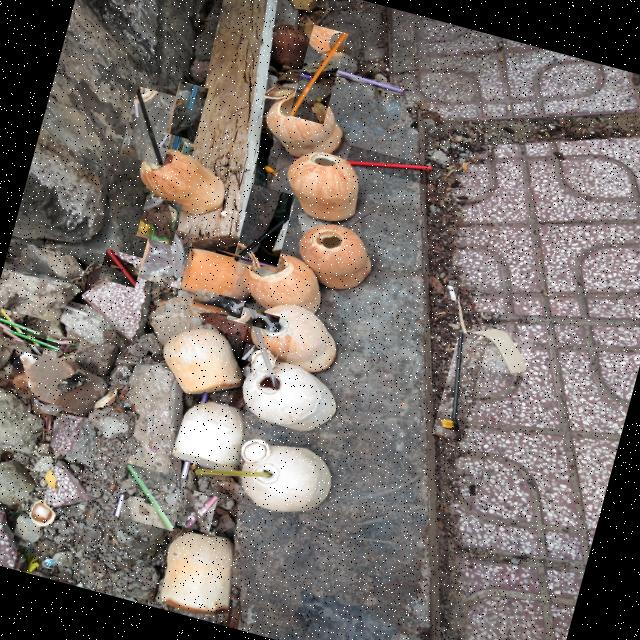Cigarette: (447, 286, 456, 300)
Drink carton: (141, 192, 180, 235)
Other plastic: (18, 548, 38, 573)
Other plastic bottle: (445, 422, 458, 431)
Plastic film: (137, 228, 185, 280), (171, 82, 201, 135), (141, 200, 172, 245), (193, 297, 243, 317), (253, 153, 267, 216), (33, 404, 62, 415), (182, 142, 194, 154)
Plastic straw: (290, 33, 346, 116), (235, 194, 294, 262), (125, 465, 173, 529), (136, 86, 163, 166), (249, 317, 278, 389), (0, 309, 42, 355), (325, 67, 401, 92), (451, 332, 462, 440), (3, 329, 58, 350), (231, 306, 276, 331), (106, 250, 135, 287), (184, 496, 217, 528), (346, 161, 431, 170), (195, 469, 272, 477), (175, 461, 189, 500), (173, 112, 185, 149), (16, 341, 79, 346), (63, 305, 89, 316), (241, 345, 254, 360), (160, 136, 168, 146), (202, 392, 207, 403), (215, 251, 228, 255), (46, 419, 51, 429), (238, 258, 252, 261), (65, 353, 73, 356)
Unlabeled litter: (470, 330, 526, 374), (45, 559, 54, 567)
